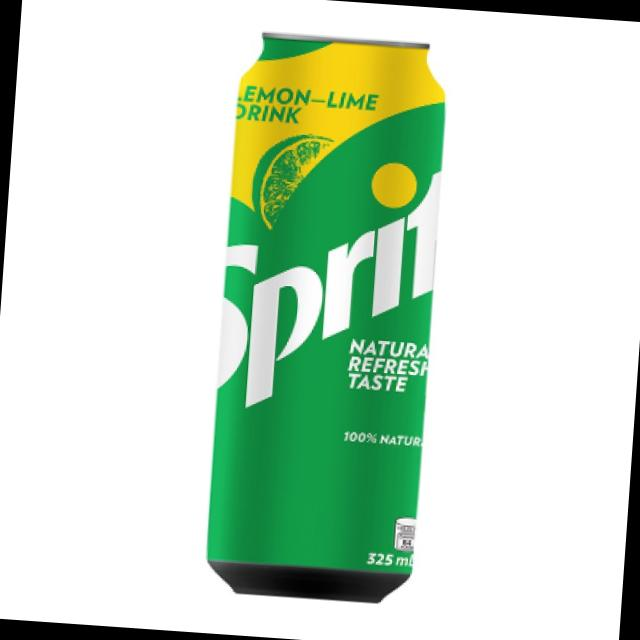sprite: (175, 7, 479, 632)
